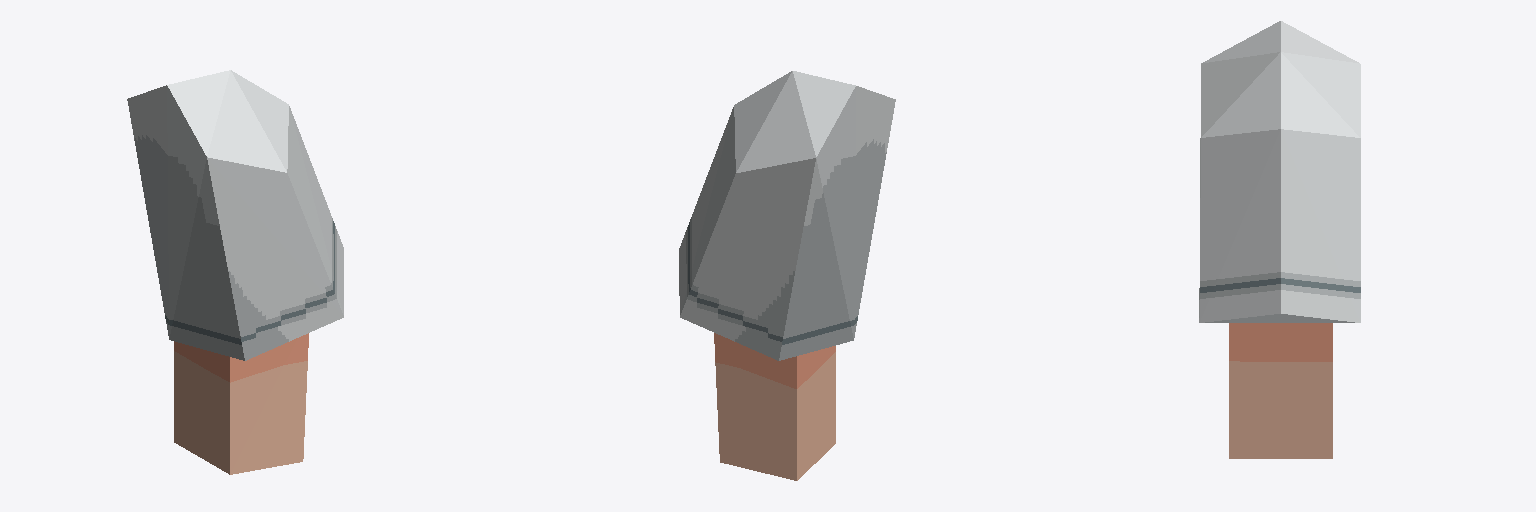
The picture shows the model from 3 angles: view 1: azimuth 30°, elevation 25°; view 2: azimuth 150°, elevation 25°; view 3: azimuth 270°, elevation 25°; orthographic projection.
Parts seen in each view (by area): view 1: 04_LEFT_SHOULDER; view 2: 04_LEFT_SHOULDER; view 3: 04_LEFT_SHOULDER.
Part boxes in pixels (x1,y1,x2,y2): 04_LEFT_SHOULDER: (127, 70, 343, 474); 04_LEFT_SHOULDER: (679, 71, 895, 480); 04_LEFT_SHOULDER: (1199, 21, 1360, 458).
Size of the model in its own units: 0.1332 by 0.2766 by 0.105.
1 materials, 1 textured.